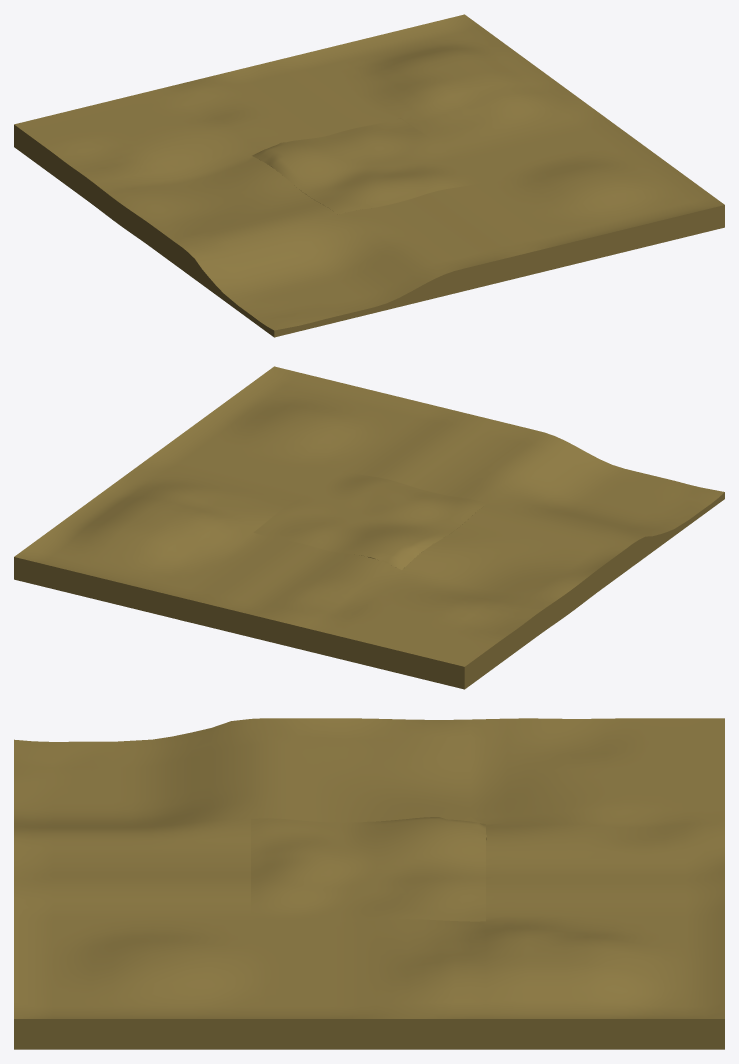
Rendered from Ground.fbx.
3 renders of one model, top to bottom at view 1: azimuth 30°, elevation 25°; view 2: azimuth 150°, elevation 25°; view 3: azimuth 270°, elevation 25°, orthographic. The views are drawn at different scales.
Parts seen in each view (by area): view 1: polySurface2, polySurface3; view 2: polySurface2, polySurface3; view 3: polySurface2, polySurface3.
Boxes of the visible parts, x1,y1,x2,y2 form: polySurface2: (14,14,724,337); polySurface3: (252,118,486,214); polySurface2: (14,366,724,689); polySurface3: (254,470,487,569); polySurface2: (14,718,724,1049); polySurface3: (251,817,486,921).
Bounding box in the file's own units: 36 × 3.07 × 36.
